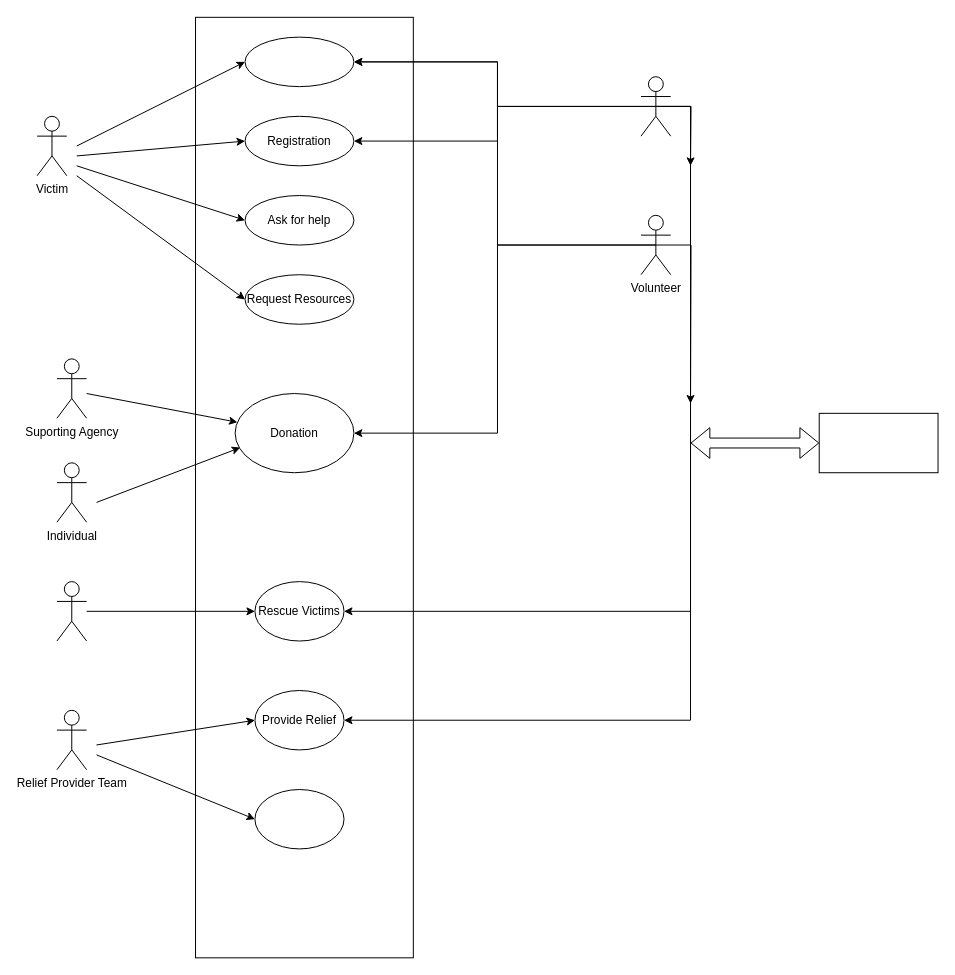
Some shapes in this 955 by 975 pixel diagram are drawn without their labels. Here are the shapes that lost their labels. From the top down, the centre of each, then its label:
the point at 299,61: Login
the point at 655,106: NGOs
the point at 878,442: Client
the point at 71,611: Rescue Team
the point at 299,819: Manage Resources
